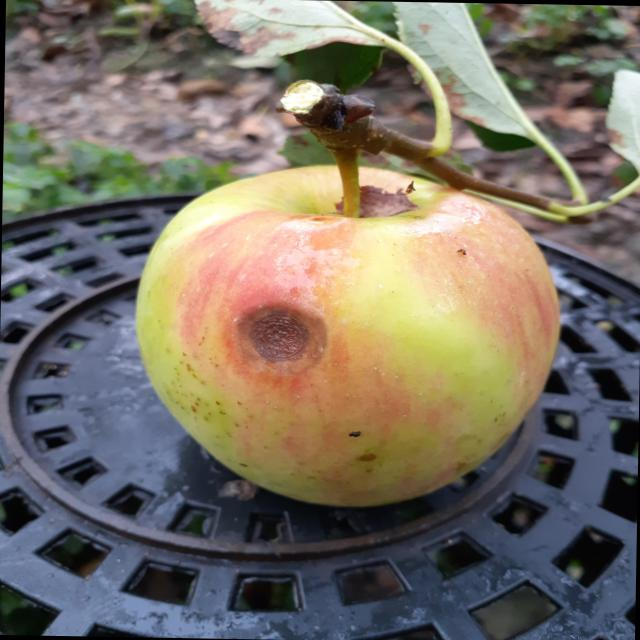rotten: (120, 148, 586, 521)
